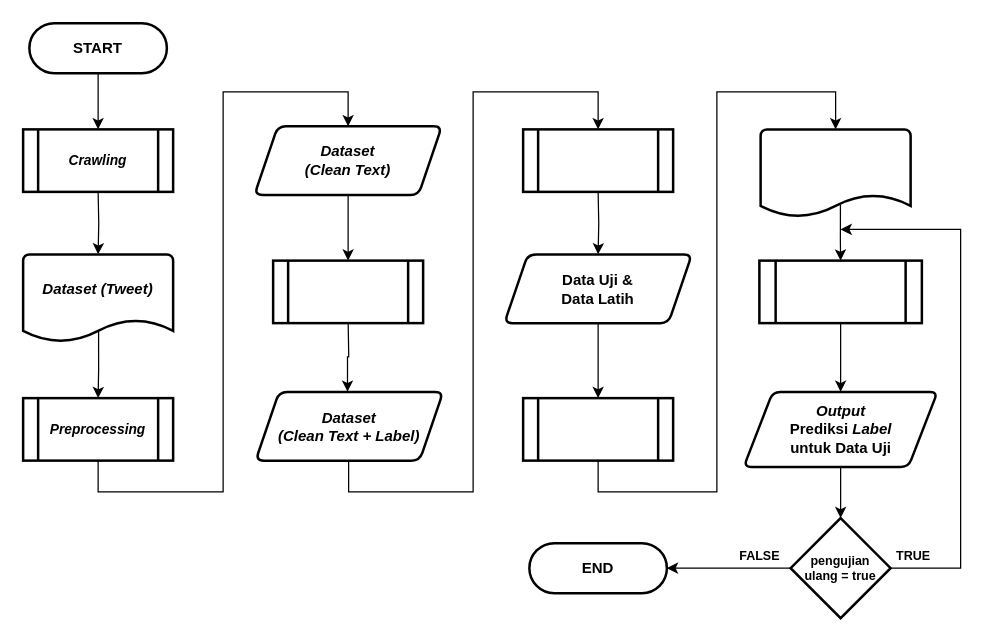
The diagram is 993 pixels wide and 640 high, and some of its shapes have lost their labels. Each missing label, with the box of its shape:
Klasifikasi (data uji): (758, 259, 922, 324)
Labeling: (271, 259, 424, 324)
Model latih (JSON): (759, 128, 911, 218)
Modeling ( data latih): (521, 396, 674, 461)
Pembagian Data: (521, 128, 674, 192)
